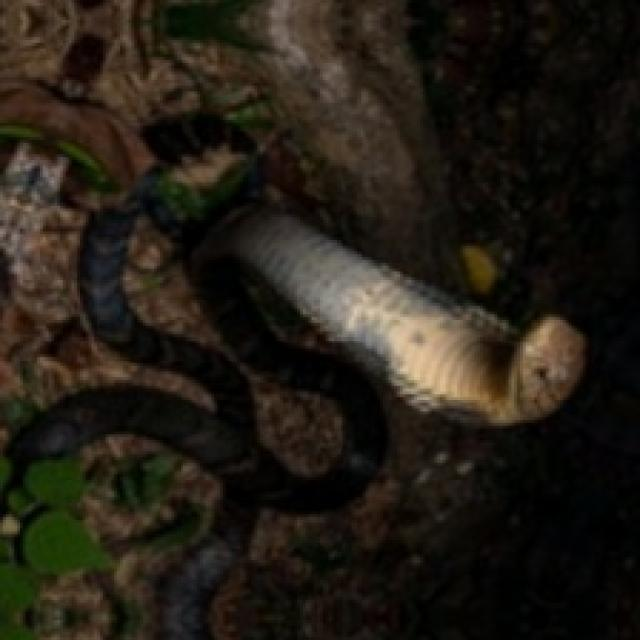king cobra: (0, 86, 589, 637)
